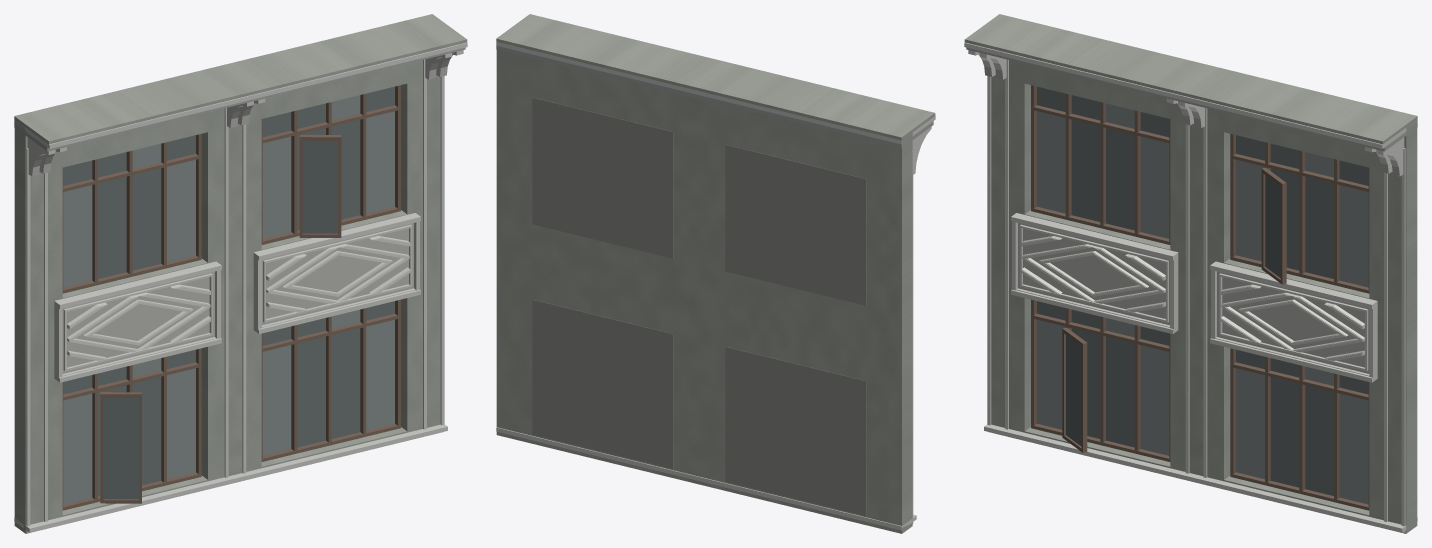
The model's file is dasheng-building-diamond-spandrels-near.glb.
3 renders of one model, left to right at view 1: azimuth 30°, elevation 25°; view 2: azimuth 150°, elevation 25°; view 3: azimuth 330°, elevation 25°, orthographic. The views are drawn at different scales.
Parts seen in each view (by area): view 1: 大生公司大楼菱纹窗间墙与成列木窗; view 2: 大生公司大楼菱纹窗间墙与成列木窗; view 3: 大生公司大楼菱纹窗间墙与成列木窗.
Boxes of the visible parts, x1,y1,x2,y2 form: 大生公司大楼菱纹窗间墙与成列木窗: (14,14,467,533); 大生公司大楼菱纹窗间墙与成列木窗: (496,14,935,533); 大生公司大楼菱纹窗间墙与成列木窗: (964,14,1417,533).
Bounding box in the file's own units: 5.04 × 4.72 × 0.737.
Materials: 9 (1 with a texture image).
